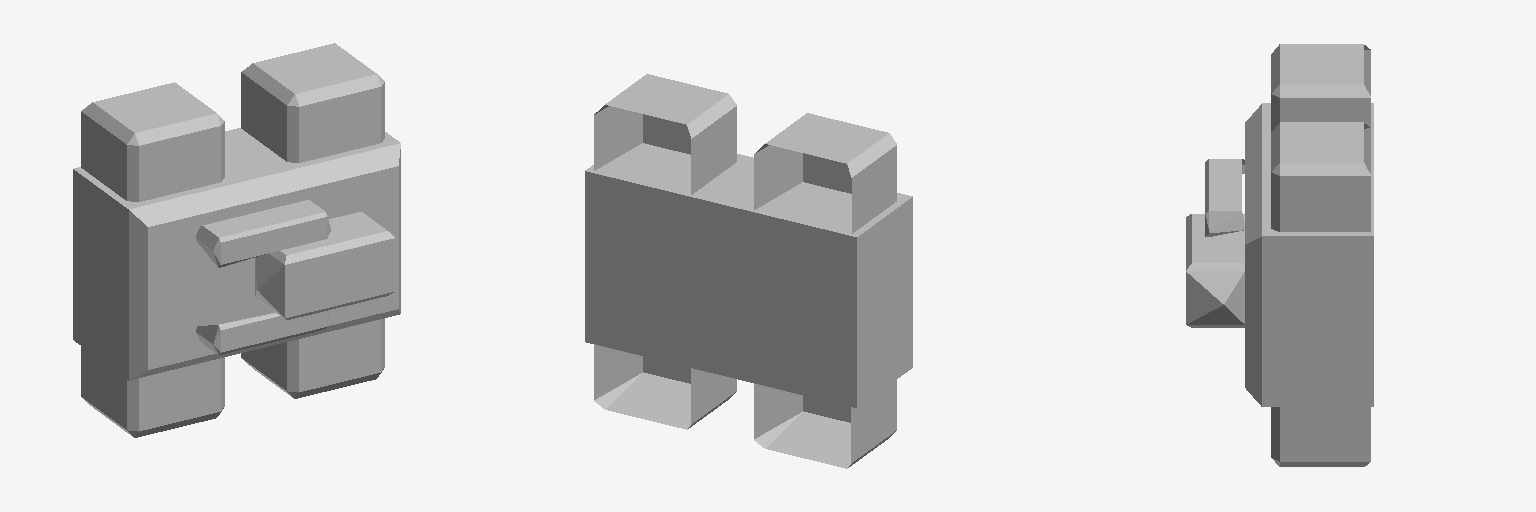
The model's file is drone1.obj.
3 views of the same model, side by side, from view 1: azimuth 30°, elevation 25°; view 2: azimuth 150°, elevation 25°; view 3: azimuth 270°, elevation 25° (orthographic).
Parts seen in each view (by area): view 1: Object.1, Object.4, Object.5, Object.6, Object.2, Object.3, Object.8, Object.7; view 2: Object.1, Object.4, Object.5, Object.2, Object.3; view 3: Object.1, Object.4, Object.5, Object.3, Object.6, Object.8.
Part boxes in pixels (x1,y1,x2,y2): Object.1: (73,128,400,380); Object.4: (241,43,384,162); Object.5: (81,82,224,201); Object.6: (255,212,395,319); Object.2: (81,346,224,437); Object.3: (241,318,384,398); Object.8: (196,200,330,267); Object.7: (196,310,330,354); Object.1: (585,143,912,407); Object.4: (594,74,736,194); Object.5: (754,113,896,233); Object.2: (754,380,896,468); Object.3: (594,344,736,429); Object.1: (1245,103,1373,406); Object.4: (1271,122,1370,231); Object.5: (1271,44,1370,131); Object.3: (1271,407,1370,466); Object.6: (1186,214,1244,327); Object.8: (1205,159,1244,236).
Bounding box in the file's own units: 62.74 × 67.11 × 37.48.